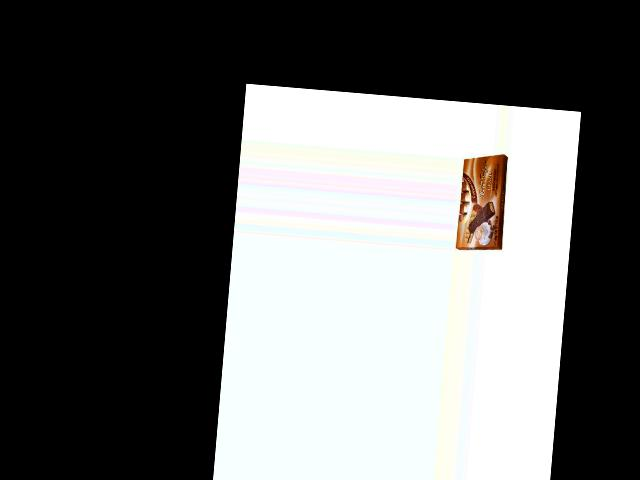chocolate: (454, 149, 510, 253)
